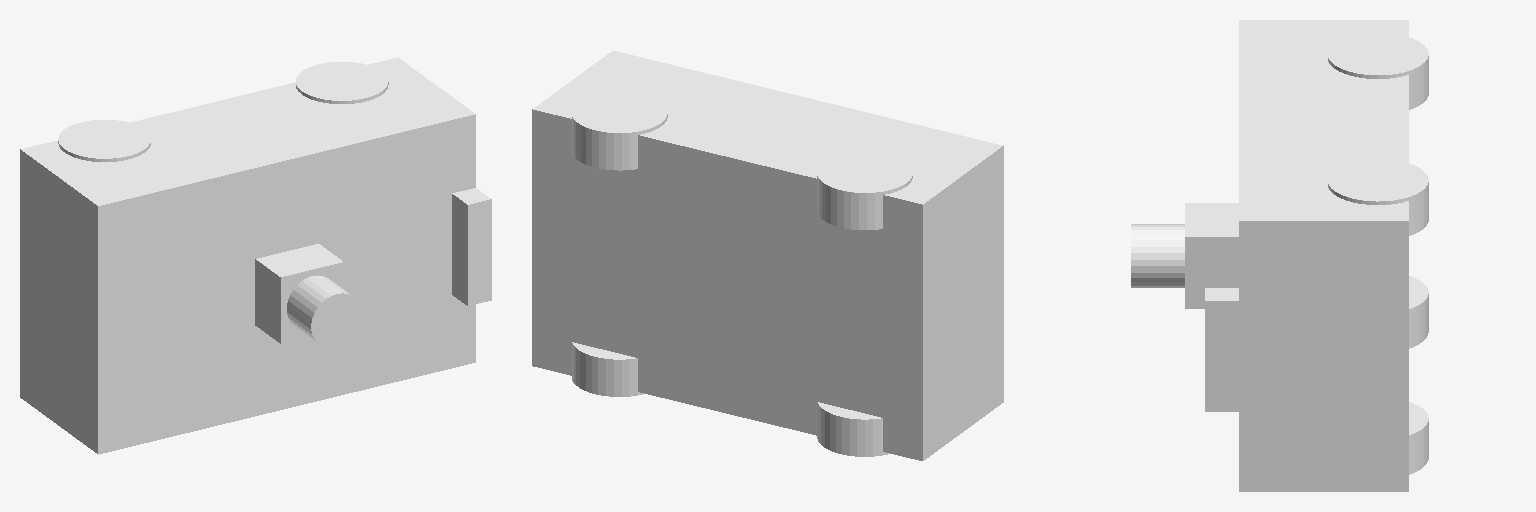
The robot description file, URDF, robot "simulation":
<?xml version="1.0" encoding="utf-8"?>
<!-- This URDF was automatically created by SolidWorks to URDF Exporter! Originally created by Stephen Brawner (brawner@gmail.com) 
     Commit Version: 1.6.0-4-g7f85cfe  Build Version: 1.6.7995.38578
     For more information, please see http://wiki.ros.org/sw_urdf_exporter -->
<robot
  name="simulation">
  <link
    name="base_link">
    <inertial>
      <origin
        xyz="5.47676983129821E-17 -4.16333634234434E-17 1.68966572335403E-19"
        rpy="0 0 0" />
      <mass
        value="3.604" />
      <inertia
        ixx="0.019228842"
        ixy="0"
        ixz="0"
        iyy="0.041483542"
        iyz="0"
        izz="0.051326967" />
    </inertial>
    <visual>
      <origin
        xyz="0 0 0"
        rpy="0 0 0" />
      <geometry>
        <mesh
          filename="package://simulation/meshes/base_link.STL" />
      </geometry>
      <material
        name="">
        <color
          rgba="1 1 1 1" />
      </material>
    </visual>
    <collision>
      <origin
        xyz="0 0 0"
        rpy="0 0 0" />
      <geometry>
        <mesh
          filename="package://simulation/meshes/base_link.STL" />
      </geometry>
    </collision>
  </link>
  <link
    name="wheel_rr">
    <inertial>
      <origin
        xyz="0 0 0.016"
        rpy="0 0 0" />
      <mass
        value="0.048" />
      <inertia
        ixx="0.000020836"
        ixy="0"
        ixz="0"
        iyy="0.000020836"
        iyz="0"
        izz="0.000033481" />
    </inertial>
    <visual>
      <origin
        xyz="0 0 0"
        rpy="0 0 0" />
      <geometry>
        <mesh
          filename="package://simulation/meshes/wheel_rr.STL" />
      </geometry>
      <material
        name="">
        <color
          rgba="1 1 1 1" />
      </material>
    </visual>
    <collision>
      <origin
        xyz="0 0 0"
        rpy="0 0 0" />
      <geometry>
        <mesh
          filename="package://simulation/meshes/wheel_rr.STL" />
      </geometry>
    </collision>
    <gazebo reference="wheel_rr">
      <mu1>0.9</mu1>
      <mu2>0.2</mu2>
    </gazebo>
  </link>
  <joint
    name="rr"
    type="continuous">
    <origin
      xyz="-0.11 0.0398 -0.081"
      rpy="3.14159265358979 0 -0.38439092475999" />
    <parent
      link="base_link" />
    <child
      link="wheel_rr" />
    <axis
      xyz="0 0 1" />
  </joint>
  <link
    name="wheel_fr">
    <inertial>
      <origin
        xyz="0 0 0.016"
        rpy="0 0 0" />
      <mass
        value="0.048" />
      <inertia
        ixx="0.000020836"
        ixy="0"
        ixz="0"
        iyy="0.000020836"
        iyz="0"
        izz="0.000033481" />
    </inertial>
    <visual>
      <origin
        xyz="0 0 0"
        rpy="0 0 0" />
      <geometry>
        <mesh
          filename="package://simulation/meshes/wheel_fr.STL" />
      </geometry>
      <material
        name="">
        <color
          rgba="1 1 1 1" />
      </material>
    </visual>
    <collision>
      <origin
        xyz="0 0 0"
        rpy="0 0 0" />
      <geometry>
        <mesh
          filename="package://simulation/meshes/wheel_fr.STL" />
      </geometry>
    </collision>
    <gazebo reference="wheel_fr">
      <mu1>0.9</mu1>
      <mu2>0.2</mu2>
    </gazebo>
  </link>
  <joint
    name="fr"
    type="continuous">
    <origin
      xyz="0.11 0.0398 -0.0810000000000001"
      rpy="-3.14159265358979 0 2.30073611878519" />
    <parent
      link="base_link" />
    <child
      link="wheel_fr" />
    <axis
      xyz="0 0 1" />
  </joint>
  <link
    name="wheel_rl">
    <inertial>
      <origin
        xyz="0 0 0.016"
        rpy="0 0 0" />
      <mass
        value="0.048" />
      <inertia
        ixx="0.000020836"
        ixy="0"
        ixz="0"
        iyy="0.000020836"
        iyz="0"
        izz="0.000033481" />
    </inertial>
    <visual>
      <origin
        xyz="0 0 0"
        rpy="0 0 0" />
      <geometry>
        <mesh
          filename="package://simulation/meshes/wheel_rl.STL" />
      </geometry>
      <material
        name="">
        <color
          rgba="1 1 1 1" />
      </material>
    </visual>
    <collision>
      <origin
        xyz="0 0 0"
        rpy="0 0 0" />
      <geometry>
        <mesh
          filename="package://simulation/meshes/wheel_rl.STL" />
      </geometry>
    </collision>
    <gazebo reference="wheel_rl">
      <mu1>0.9</mu1>
      <mu2>0.2</mu2>
    </gazebo>
  </link>
  <joint
    name="rl"
    type="continuous">
    <origin
      xyz="-0.11 0.0398 0.081"
      rpy="0 0 -2.82199394083601" />
    <parent
      link="base_link" />
    <child
      link="wheel_rl" />
    <axis
      xyz="0 0 1" />
  </joint>
  <link
    name="wheel_fl">
    <inertial>
      <origin
        xyz="-1.38777878078145E-17 6.93889390390723E-18 0.016"
        rpy="0 0 0" />
      <mass
        value="0.048" />
      <inertia
        ixx="0.000020836"
        ixy="0"
        ixz="0"
        iyy="0.000020836"
        iyz="0"
        izz="0.000033481" />
    </inertial>
    <visual>
      <origin
        xyz="0 0 0"
        rpy="0 0 0" />
      <geometry>
        <mesh
          filename="package://simulation/meshes/wheel_fl.STL" />
      </geometry>
      <material
        name="">
        <color
          rgba="1 1 1 1" />
      </material>
    </visual>
    <collision>
      <origin
        xyz="0 0 0"
        rpy="0 0 0" />
      <geometry>
        <mesh
          filename="package://simulation/meshes/wheel_fl.STL" />
      </geometry>
    </collision>
    <gazebo reference="wheel_fl">
      <mu1>0.9</mu1>
      <mu2>0.2</mu2>
    </gazebo>
  </link>
  <joint
    name="fl"
    type="continuous">
    <origin
      xyz="0.11 0.0398 0.081"
      rpy="0 0 -2.82199394083601" />
    <parent
      link="base_link" />
    <child
      link="wheel_fl" />
    <axis
      xyz="0 0 1" />
  </joint>
  <link
    name="camera">
    <inertial>
      <origin
        xyz="-3.60777559402915E-17 -2.77555756156289E-17 0.01251"
        rpy="0 0 0" />
      <mass
        value="0.072" />
      <inertia
        ixx="0.000017944"
        ixy="0"
        ixz="0"
        iyy="0.000063430"
        iyz="0"
        izz="0.000051326" />
    </inertial>
    <visual>
      <origin
        xyz="0 0 0"
        rpy="0 0 0" />
      <geometry>
        <mesh
          filename="package://simulation/meshes/camera.STL" />
      </geometry>
      <material
        name="">
        <color
          rgba="1 1 1 1" />
      </material>
    </visual>
    <collision>
      <origin
        xyz="0 0 0"
        rpy="0 0 0" />
      <geometry>
        <mesh
          filename="package://simulation/meshes/camera.STL" />
      </geometry>
    </collision>
  </link>
  <joint
    name="cam"
    type="fixed">
    <origin
      xyz="0.16397 -0.0625 0"
      rpy="1.5707963267949 -1.5707963267949 0" />
    <parent
      link="base_link" />
    <child
      link="camera" />
    <axis
      xyz="0 0 0" />
  </joint>
  <link
    name="raspberry_pi">
    <inertial>
      <origin
        xyz="-5.94496031395153E-17 0.015 -1.38777878078145E-17"
        rpy="0 0 0" />
      <mass
        value="0.098" />
      <inertia
        ixx="0.000063904"
        ixy="0"
        ixz="0"
        iyy="0.000104229"
        iyz="0"
        izz="0.000099125" />
    </inertial>
    <visual>
      <origin
        xyz="0 0 0"
        rpy="0 0 0" />
      <geometry>
        <mesh
          filename="package://simulation/meshes/raspberry_pi.STL" />
      </geometry>
      <material
        name="">
        <color
          rgba="1 1 1 1" />
      </material>
    </visual>
    <collision>
      <origin
        xyz="0 0 0"
        rpy="0 0 0" />
      <geometry>
        <mesh
          filename="package://simulation/meshes/raspberry_pi.STL" />
      </geometry>
    </collision>
  </link>
  <joint
    name="ras"
    type="fixed">
    <origin
      xyz="0.11741 -0.0625 0"
      rpy="0 -1.5707963267949 0" />
    <parent
      link="base_link" />
    <child
      link="raspberry_pi" />
    <axis
      xyz="0 0 0" />
  </joint>
  <link
    name="radar">
    <inertial>
      <origin
        xyz="4.73003082101472E-17 0.0334354827982746 3.96881213082244E-17"
        rpy="0 0 0" />
      <mass
        value="0.056" />
      <inertia
        ixx="0.000103234"
        ixy="0"
        ixz="0"
        iyy="0.000026815"
        iyz="0"
        izz="0.000103234" />
    </inertial>
    <visual>
      <origin
        xyz="0 0 0"
        rpy="0 0 0" />
      <geometry>
        <mesh
          filename="package://simulation/meshes/radar.STL" />
      </geometry>
      <material
        name="">
        <color
          rgba="1 1 1 1" />
      </material>
    </visual>
    <collision>
      <origin
        xyz="0 0 0"
        rpy="0 0 0" />
      <geometry>
        <mesh
          filename="package://simulation/meshes/radar.STL" />
      </geometry>
    </collision>
  </link>
  <joint
    name="rad"
    type="fixed">
    <origin
      xyz="0 -0.0625 0"
      rpy="3.14159265358979 0 0" />
    <parent
      link="base_link" />
    <child
      link="radar" />
    <axis
      xyz="0 0 0" />
  </joint>
</robot>

--- Render facts (derived) ---
Views: 3 orthographic renders of the robot side by side, from view 1: azimuth 30°, elevation 25°; view 2: azimuth 150°, elevation 25°; view 3: azimuth 270°, elevation 25°.
Robot: simulation — 8 links, 7 joints (4 continuous, 3 fixed); root link base_link; default pose: every joint at zero.
Visible links, largest first — view 1: base_link, radar, raspberry_pi, camera, wheel_rl, wheel_fl; view 2: base_link, wheel_rl, wheel_fl, wheel_fr, wheel_rr; view 3: base_link, radar, wheel_fl, wheel_rl, camera, wheel_fr, wheel_rr.
Boxes of the visible links, x1=… form: base_link: x1=20, y1=57, x2=475, y2=454; radar: x1=255, y1=244, x2=361, y2=347; raspberry_pi: x1=379, y1=193, x2=448, y2=313; camera: x1=452, y1=188, x2=491, y2=305; wheel_rl: x1=58, y1=120, x2=150, y2=161; wheel_fl: x1=296, y1=62, x2=388, y2=103; base_link: x1=532, y1=51, x2=1003, y2=460; wheel_rl: x1=817, y1=152, x2=912, y2=229; wheel_fl: x1=572, y1=93, x2=667, y2=170; wheel_fr: x1=572, y1=342, x2=643, y2=396; wheel_rr: x1=817, y1=402, x2=889, y2=456; base_link: x1=1239, y1=20, x2=1408, y2=491; radar: x1=1131, y1=203, x2=1238, y2=308; wheel_fl: x1=1328, y1=159, x2=1428, y2=235; wheel_rl: x1=1328, y1=33, x2=1428, y2=109; camera: x1=1205, y1=288, x2=1238, y2=411; wheel_fr: x1=1409, y1=402, x2=1428, y2=474; wheel_rr: x1=1409, y1=276, x2=1428, y2=348.
Size in the robot's own frame: 0.35 by 0.2194 by 0.226 metres.
Meshes: 8 distinct files referenced, 8 mesh visuals loaded (8 binary STL).
